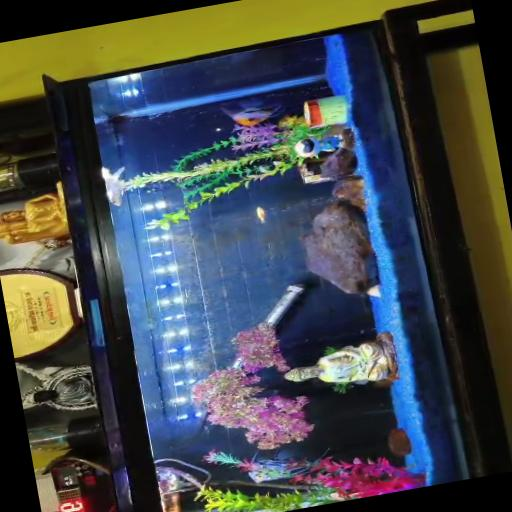Fish: (222, 101, 282, 126), (248, 459, 290, 483), (102, 167, 125, 206), (256, 207, 267, 223)
